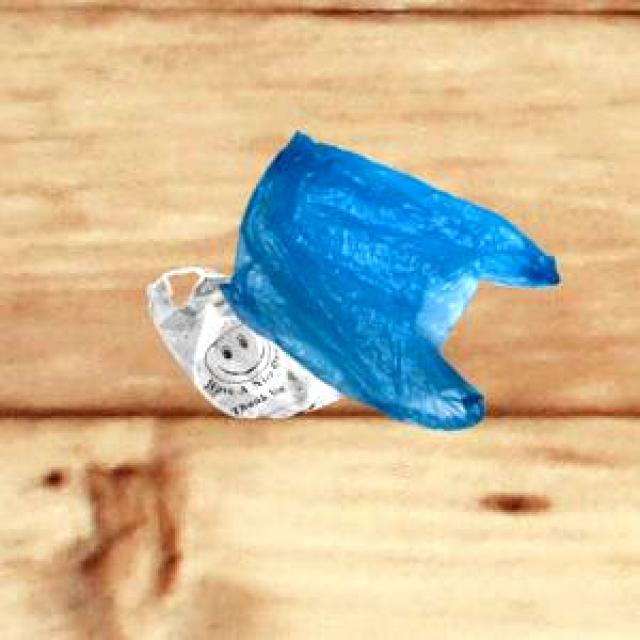Plastic_Bag: (217, 129, 556, 428), (144, 263, 338, 415)
